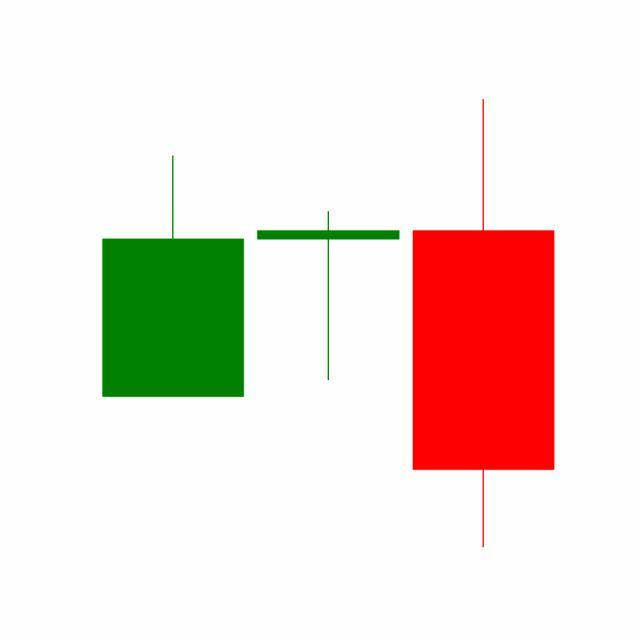Dragonfly Doji: (250, 210, 407, 384)
